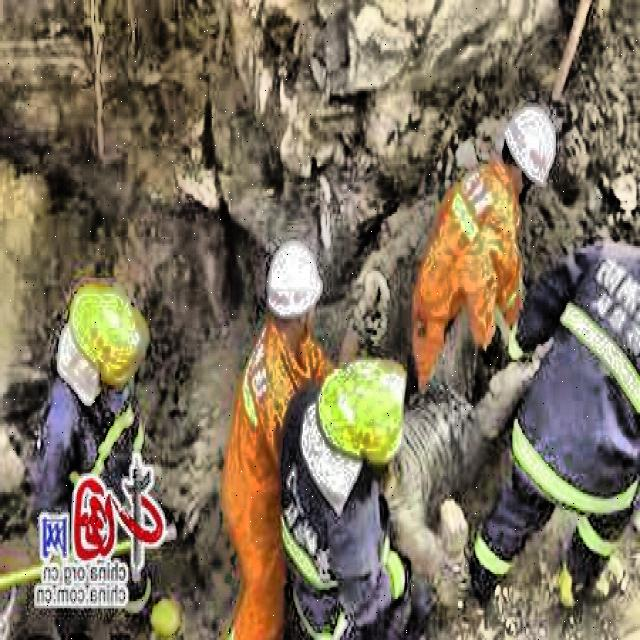helmet: (302, 358, 408, 480), (61, 283, 141, 397), (492, 98, 562, 205), (263, 234, 320, 348)
